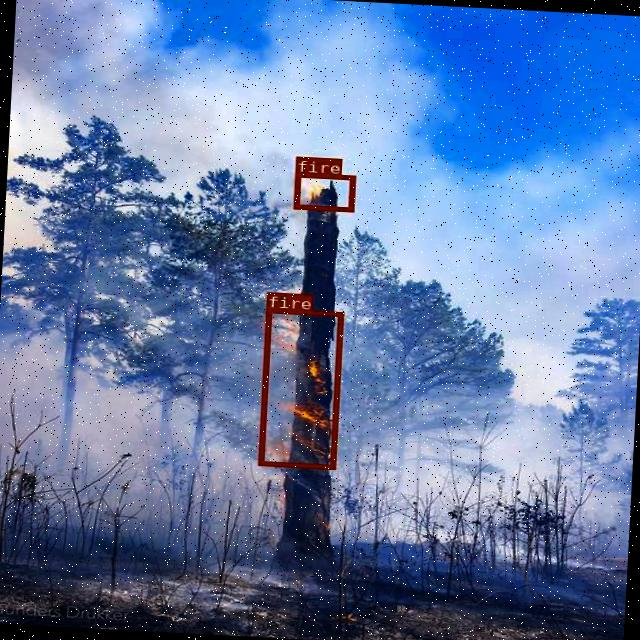fire: (257, 307, 342, 468), (292, 172, 355, 211)
